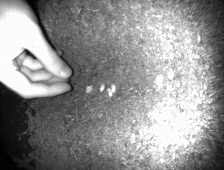corn: (152, 72, 167, 86), (82, 83, 94, 95), (97, 81, 107, 94), (105, 86, 115, 99), (109, 81, 118, 95)
